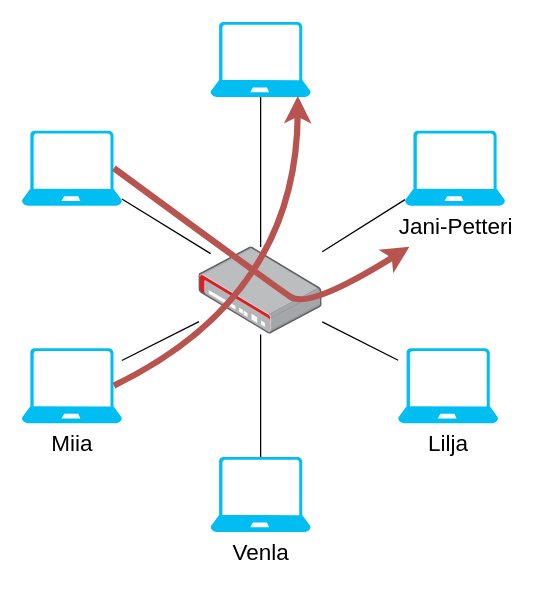
This 534x589 diagram has some shape labels left out. Each missing label, with the centre of its shape:
Pertti: pixel 260 58
Titta: pixel 71 167
